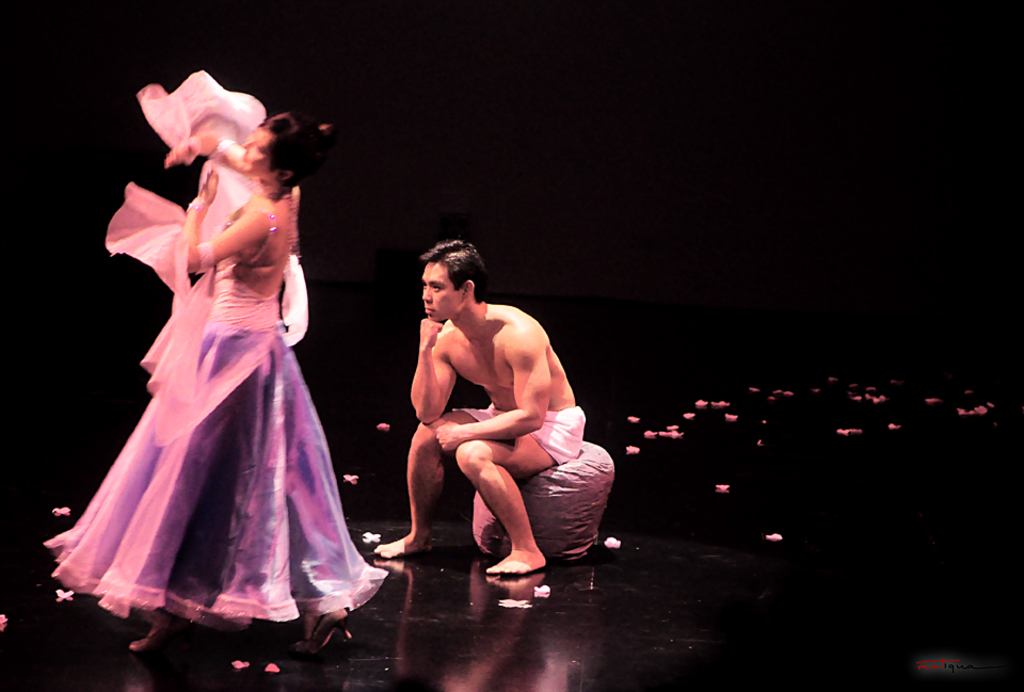Human_hand: (164, 136, 205, 170), (415, 311, 445, 356), (195, 163, 220, 209), (436, 423, 459, 450)
